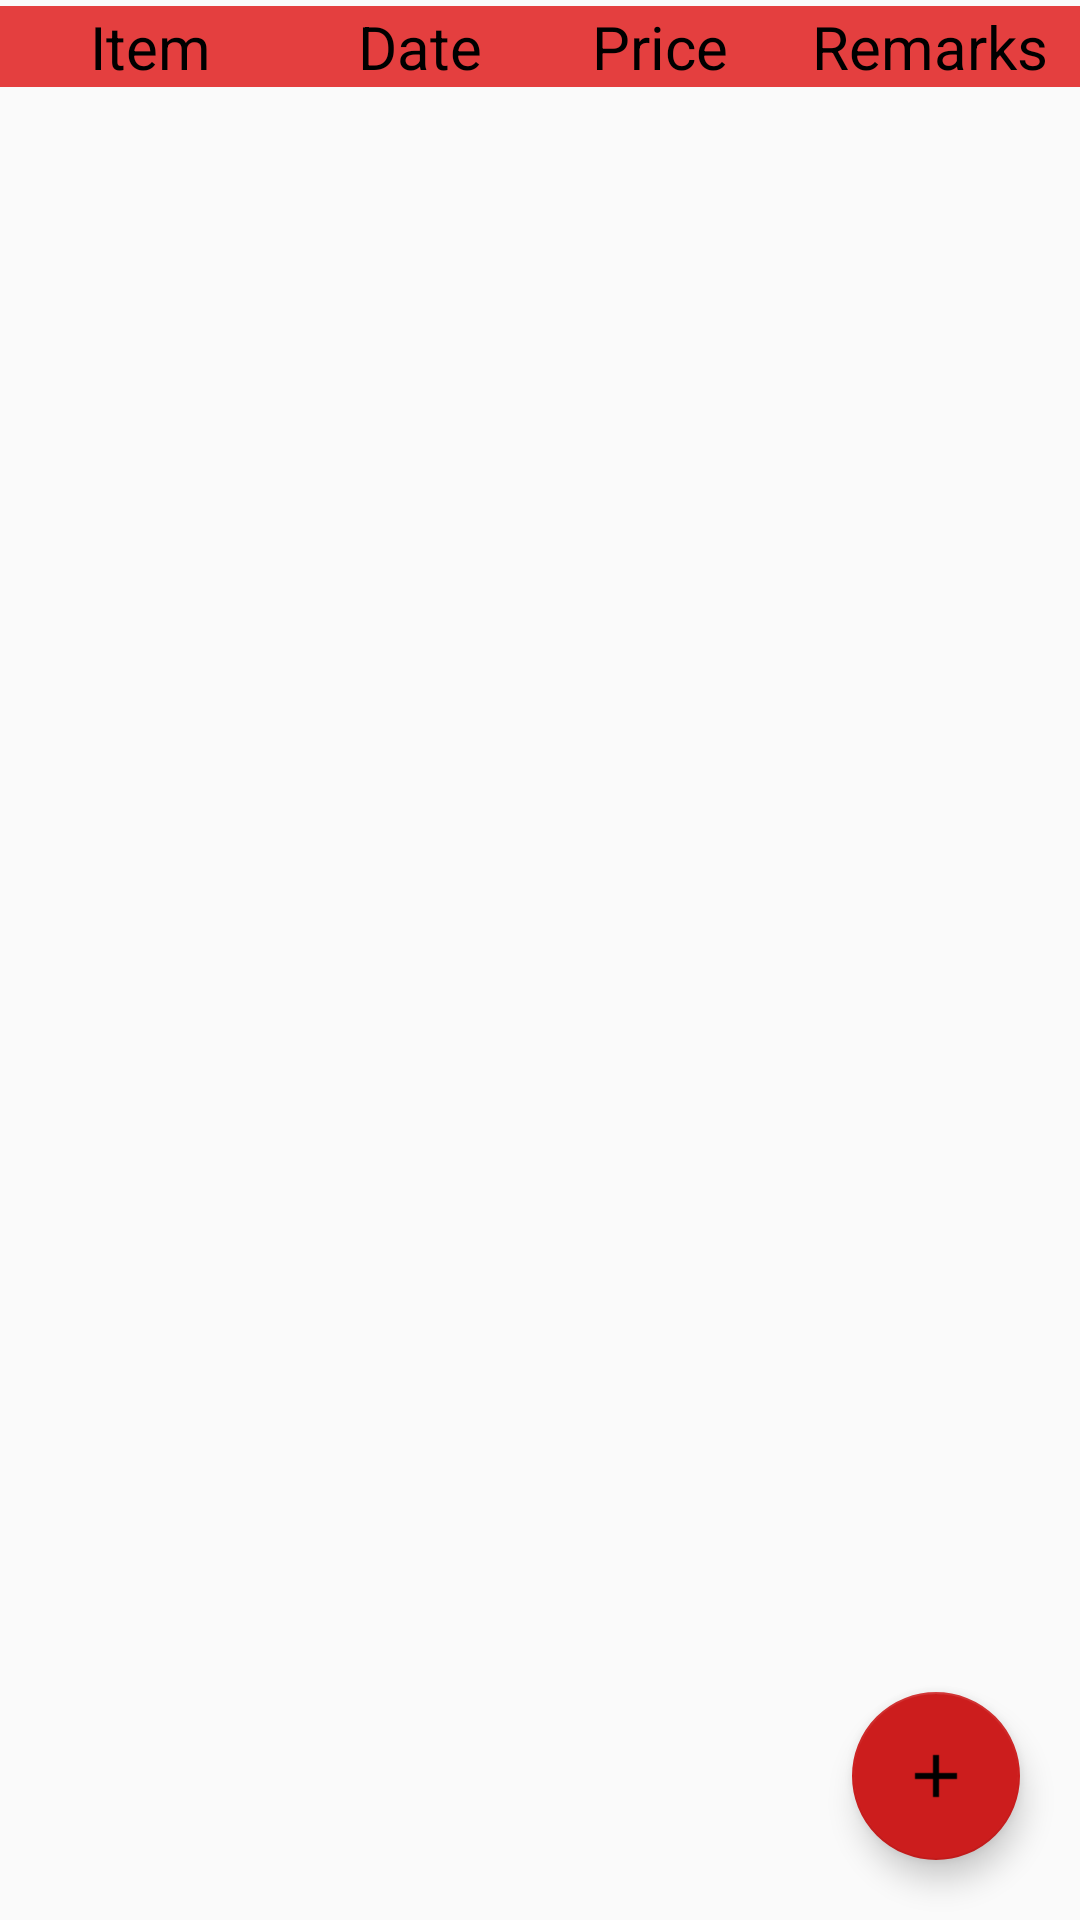

Locate icon controls on the screen. Image size 1080 × 1920, boxes as (x1,y1,x2,y2).
plus: (852,1692,1020,1860)
